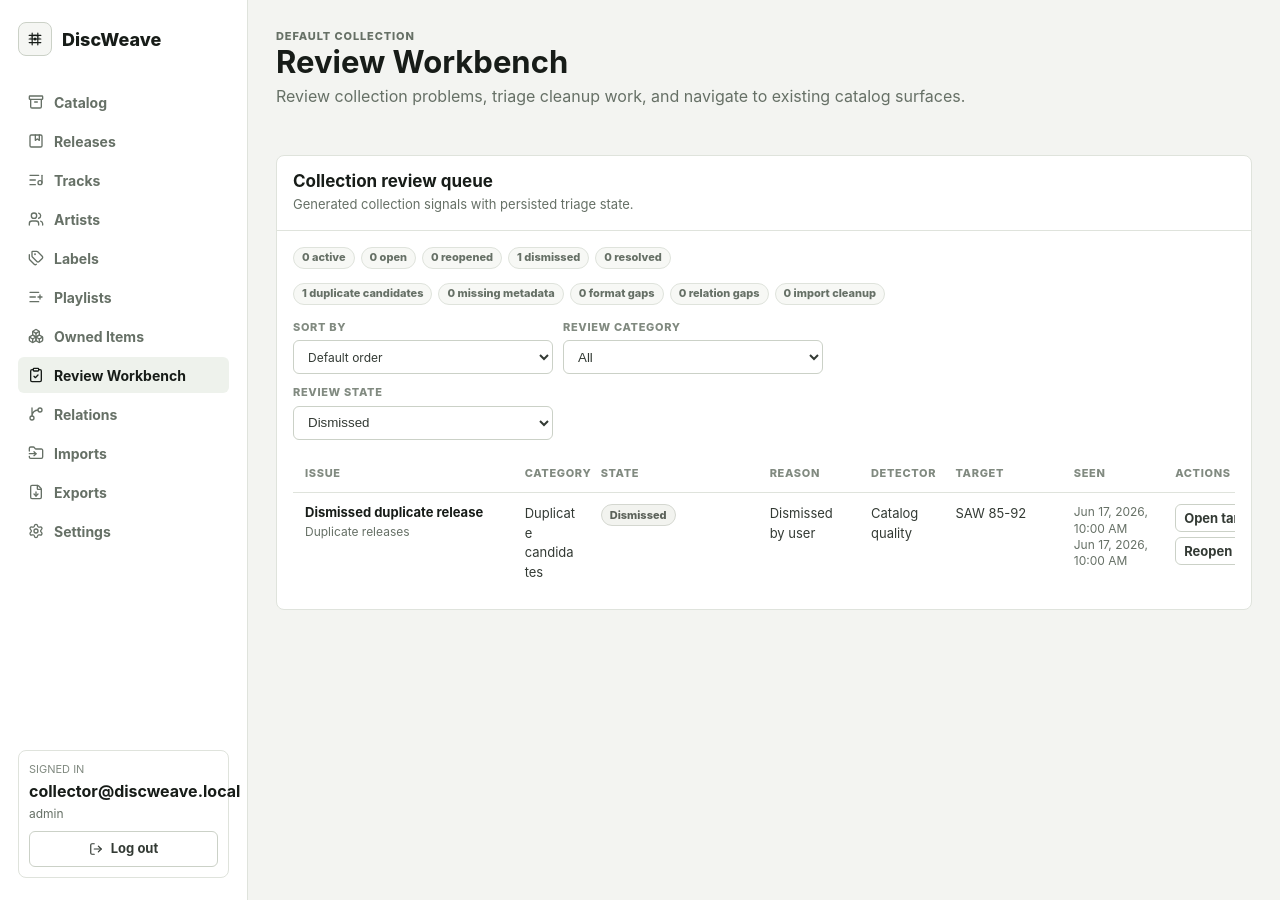
Review Workbench workspace › reopens explicitly filtered dismissed items
Click the button with aria-label "Reopen Dismissed duplicate release": (1208, 552) [1175,538,1241,566]
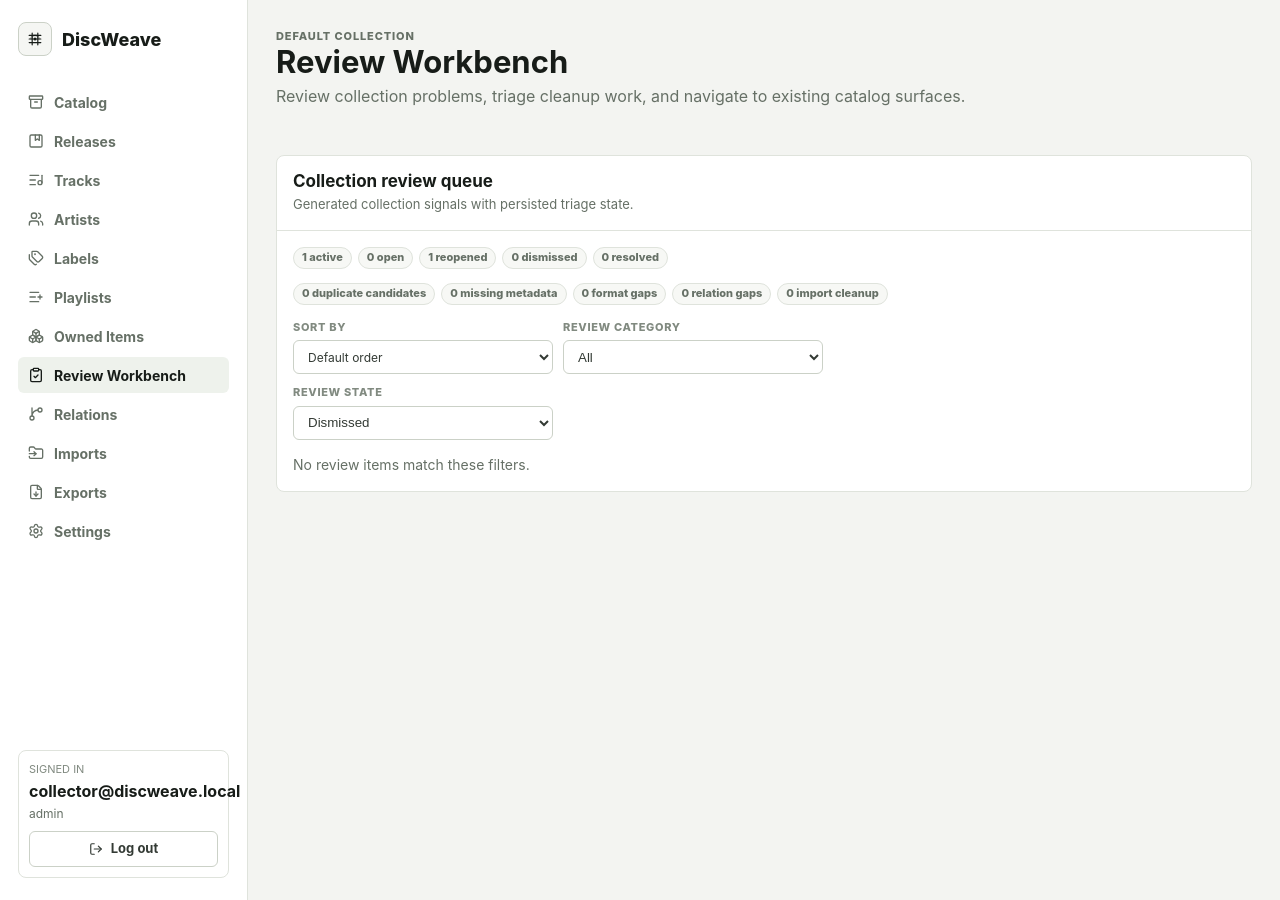
Expected: the text "Dismissed duplicate release" is gone
